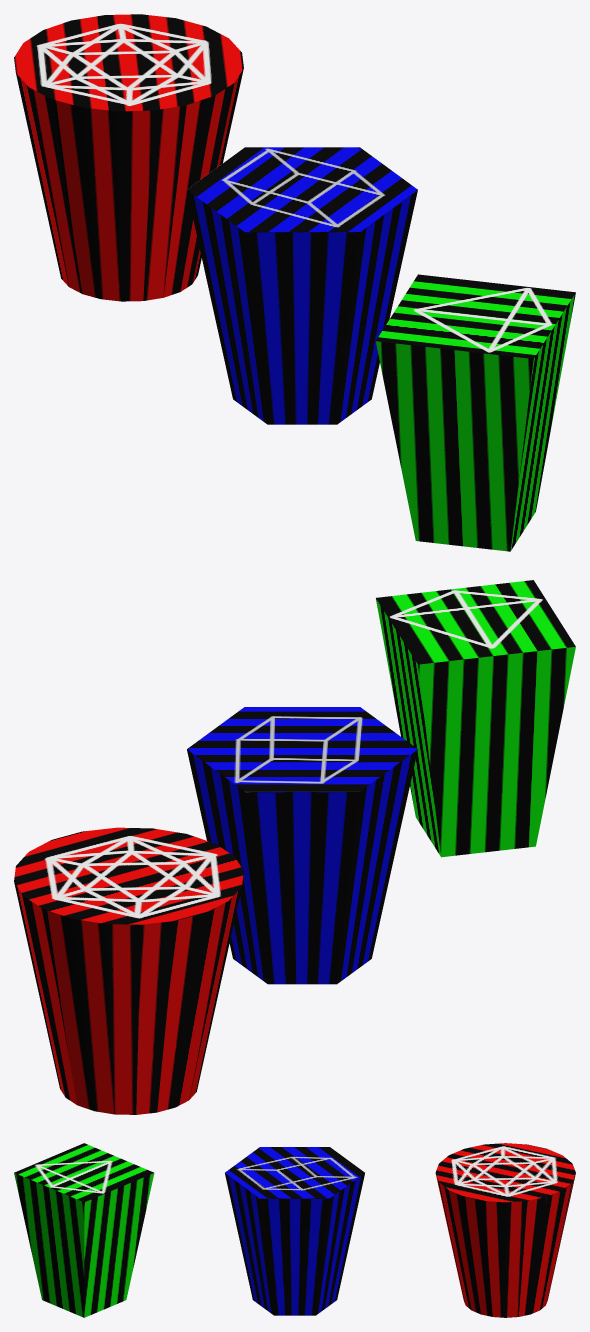
The model's file is spawners.fbx.
3 views of the same model, one above another, from view 1: azimuth 30°, elevation 25°; view 2: azimuth 150°, elevation 25°; view 3: azimuth 270°, elevation 25° (orthographic). The views are drawn at different scales.
Parts seen in each view (by area): view 1: IsoSpawner, HexaSpawner, TetraSpawner; view 2: IsoSpawner, HexaSpawner, TetraSpawner; view 3: IsoSpawner, HexaSpawner, TetraSpawner.
Boxes of the visible parts, bbox=[...] form: IsoSpawner: bbox=[14, 14, 243, 301]; HexaSpawner: bbox=[187, 147, 417, 424]; TetraSpawner: bbox=[375, 274, 575, 551]; IsoSpawner: bbox=[14, 827, 243, 1114]; HexaSpawner: bbox=[187, 707, 417, 984]; TetraSpawner: bbox=[376, 580, 575, 857]; IsoSpawner: bbox=[435, 1143, 575, 1317]; HexaSpawner: bbox=[225, 1147, 364, 1315]; TetraSpawner: bbox=[14, 1143, 154, 1317].
Size of the model in its own units: 2 by 2 by 8.
